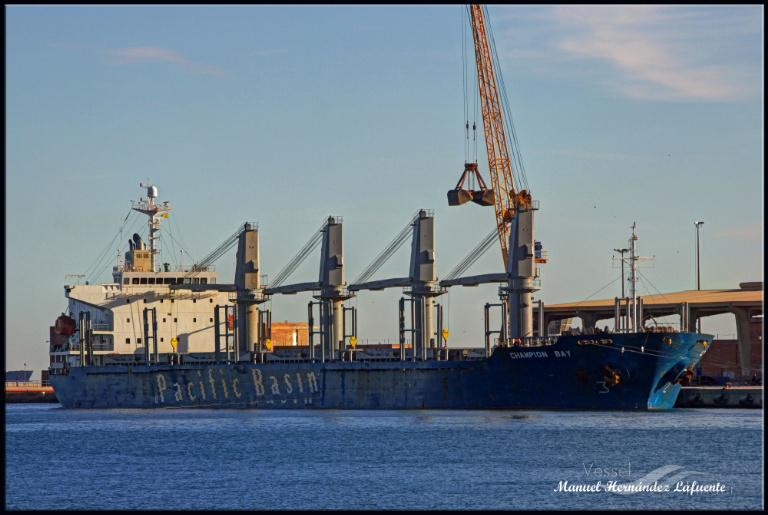OCR: (150, 370, 320, 409)
